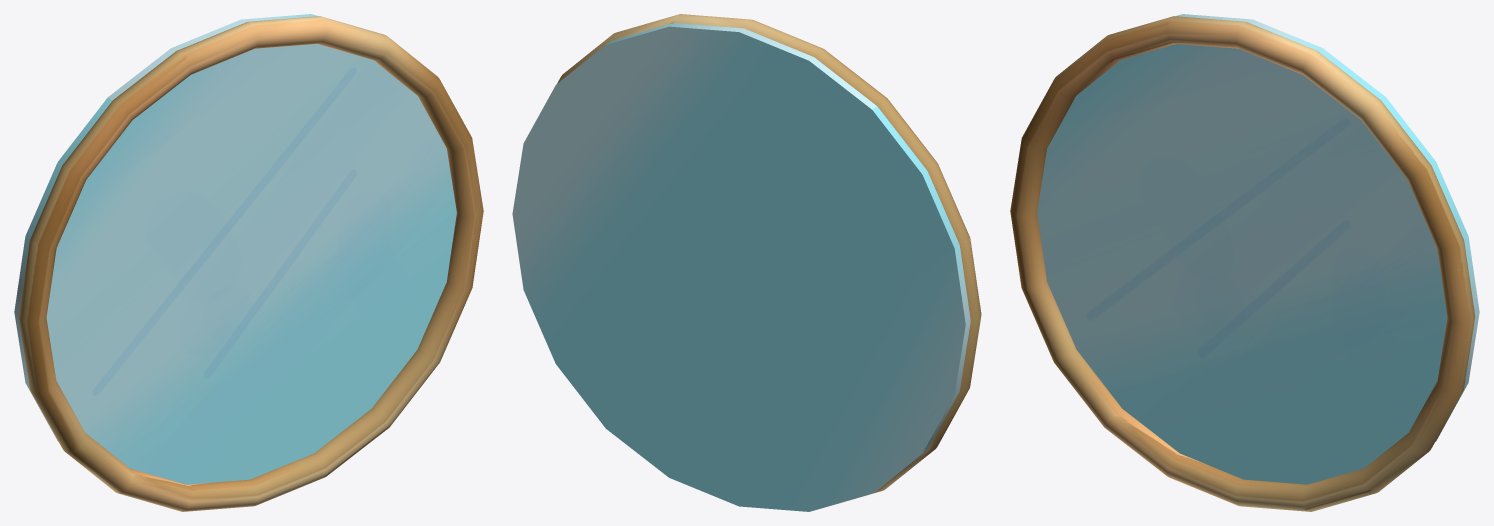
Rendered from espejooo.fbx.
The picture shows the model from 3 angles, left to right: view 1: azimuth 30°, elevation 25°; view 2: azimuth 150°, elevation 25°; view 3: azimuth 330°, elevation 25°; orthographic projection.
Parts seen in each view (by area): view 1: cristal, marco; view 2: cristal, marco; view 3: cristal, marco.
Part boxes in pixels (x1,y1,x2,y2): cristal: (14,14,456,484); marco: (18,16,483,511); cristal: (512,23,970,511); marco: (557,14,981,508); cristal: (1037,14,1479,484); marco: (1010,16,1475,511).
Bounding box in the file's own units: 700 × 700 × 44.8.
Materials: 2 (2 with a texture image).
